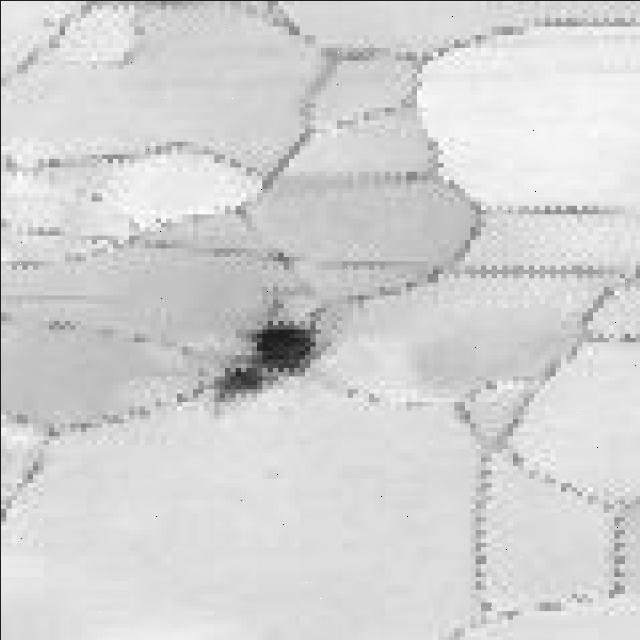good_void: (194, 315, 320, 407), (257, 242, 300, 270)
